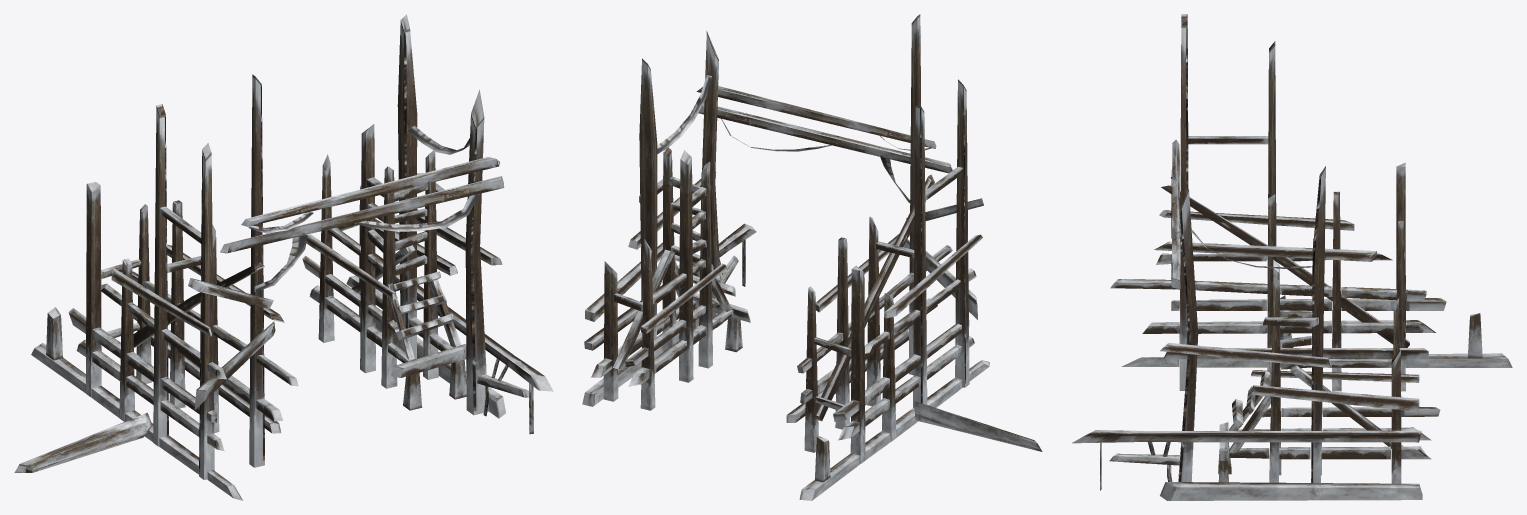
File: 5014_Item_mutou_1.FBX
The picture shows the model from 3 angles, left to right: view 1: azimuth 30°, elevation 25°; view 2: azimuth 150°, elevation 25°; view 3: azimuth 270°, elevation 25°; orthographic projection. The views are drawn at different scales.
Visible parts, largest first — view 1: 5014_Item_mutou_1; view 2: 5014_Item_mutou_1; view 3: 5014_Item_mutou_1.
Part boxes in pixels (<box>): 5014_Item_mutou_1: <box>14,14,553,500</box>; 5014_Item_mutou_1: <box>582,14,1042,500</box>; 5014_Item_mutou_1: <box>1072,14,1512,500</box>.
Bounding box in the file's own units: 30505 × 26157 × 28030.
